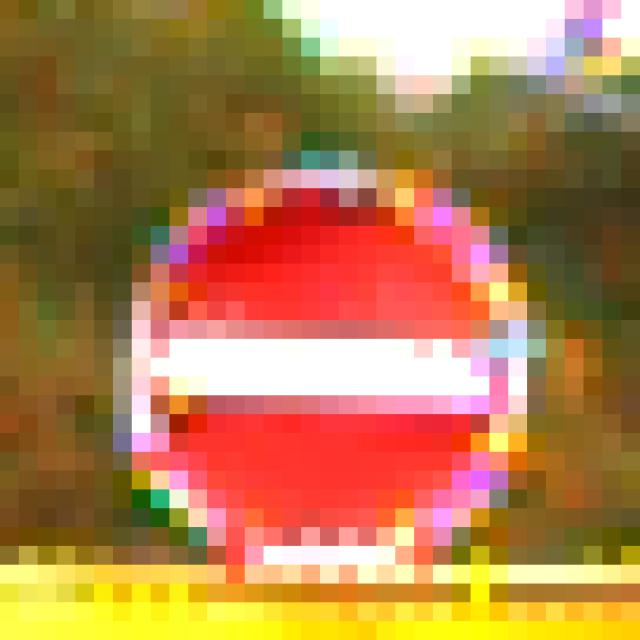No Entry: (95, 114, 528, 547)
